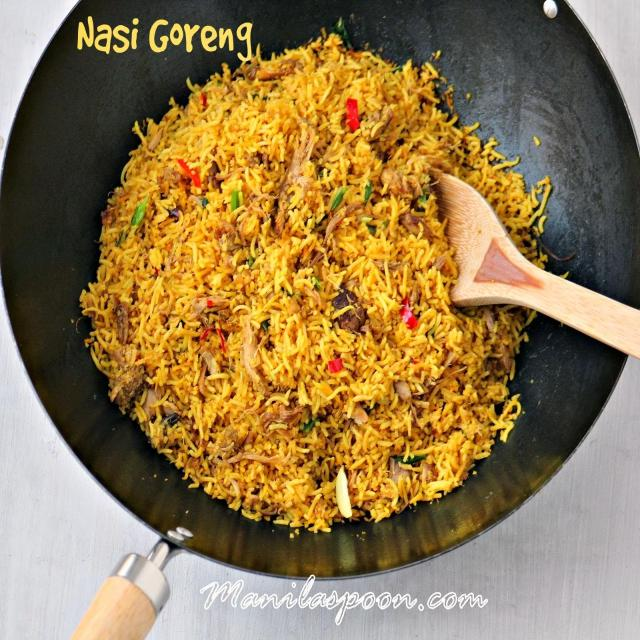Nasi Goreng: (77, 27, 558, 534)
